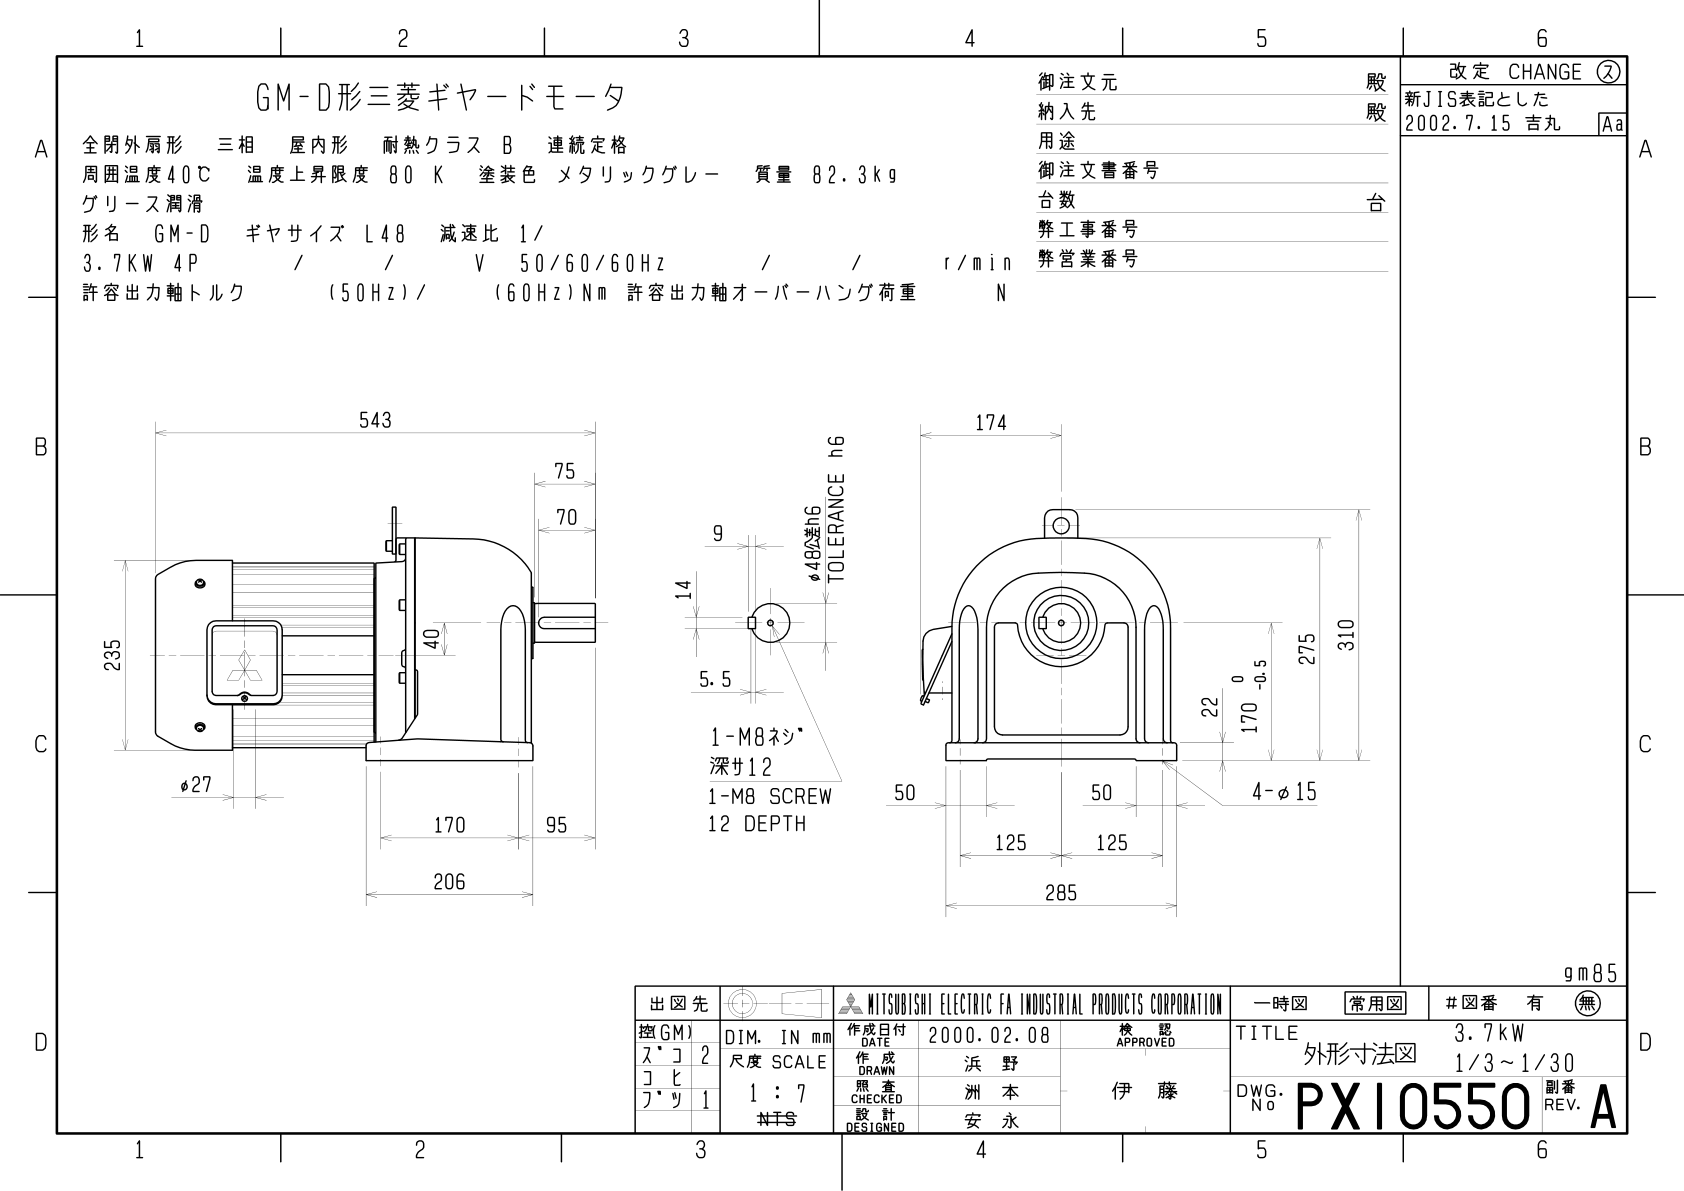GM_D_屋内＿三相_脚: (82, 339, 1381, 949)
